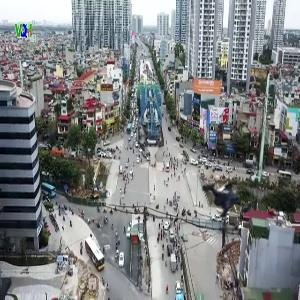drone: (180, 163, 264, 247)
